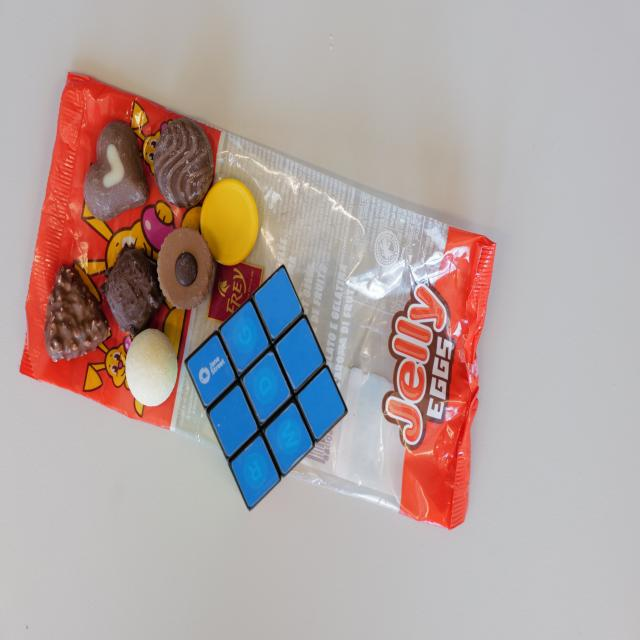Comtesse: (127, 328, 178, 407)
Noblesse: (159, 227, 214, 310)
Noir_authentique: (153, 117, 216, 209)
Passion_au_lait: (85, 120, 150, 221)
Tentation_noir: (106, 246, 164, 334)
Triangolo: (46, 261, 111, 358)
